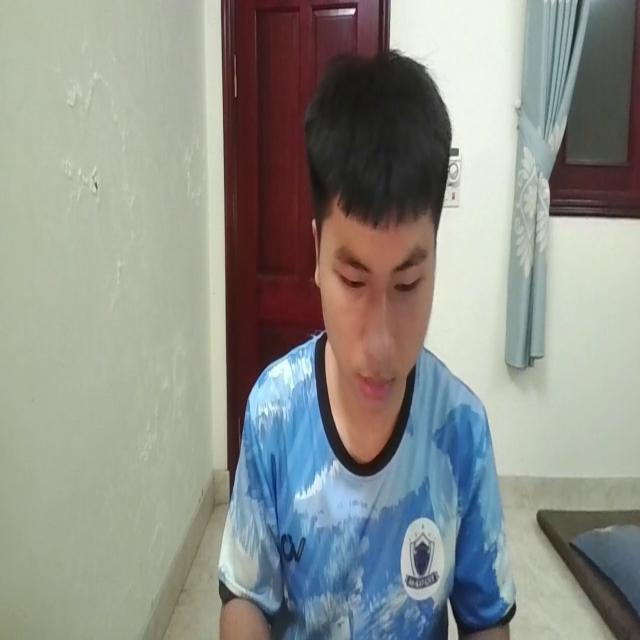student: (221, 42, 515, 640)
